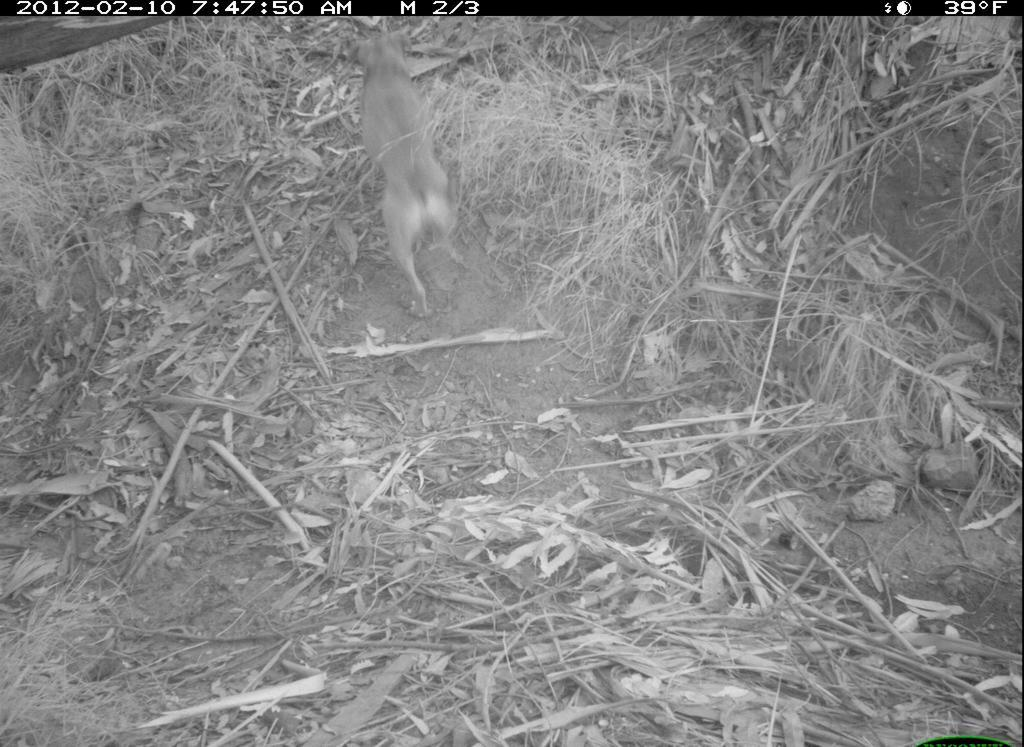dog: (337, 18, 470, 328)
